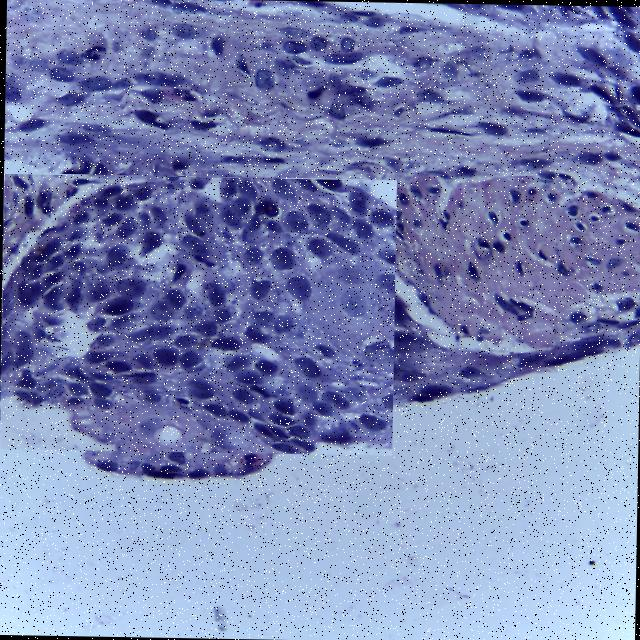Nuclear Hyperchromatism: (1, 176, 395, 452)
